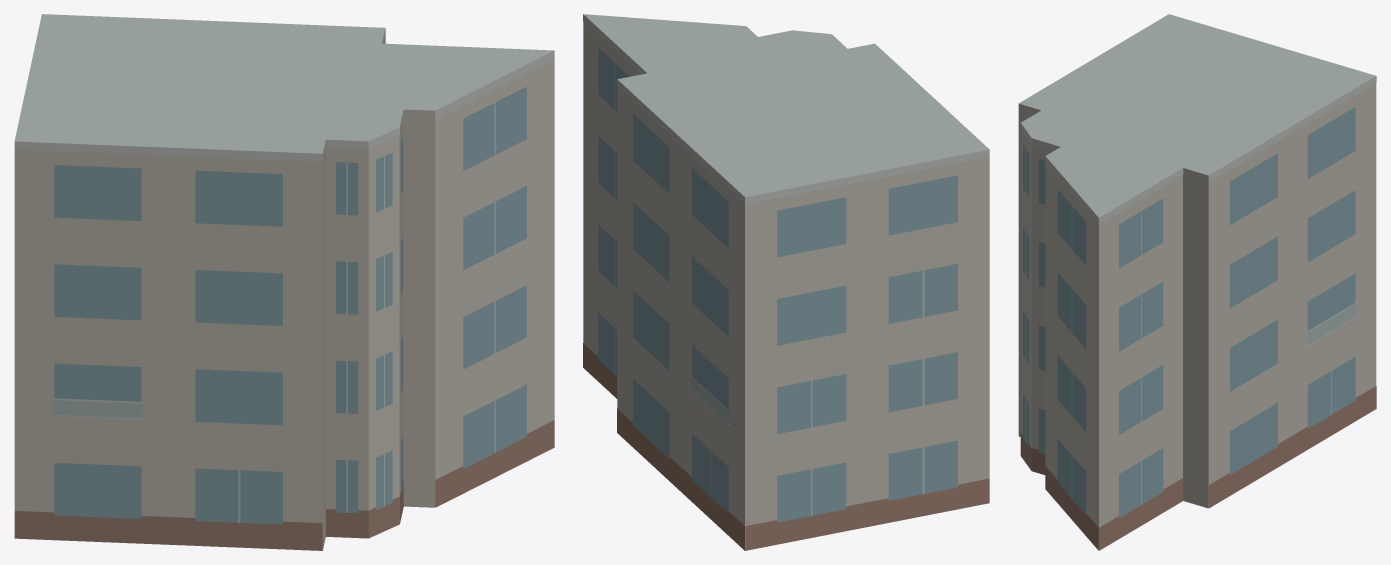
File: survey-upis-32736209.glb
The picture shows the model from 3 angles, left to right: view 1: azimuth 30°, elevation 25°; view 2: azimuth 150°, elevation 25°; view 3: azimuth 270°, elevation 25°; orthographic projection. The views are drawn at different scales.
Visible parts, largest first — view 1: survey-upis-32736209.tmp; view 2: survey-upis-32736209.tmp; view 3: survey-upis-32736209.tmp.
Boxes of the visible parts, left/top/right/bottom form: survey-upis-32736209.tmp: left=14, top=14, right=554, bottom=550; survey-upis-32736209.tmp: left=583, top=14, right=989, bottom=550; survey-upis-32736209.tmp: left=1018, top=14, right=1376, bottom=550.
Size of the model in its own units: 15.5 by 11.8 by 11.51.
